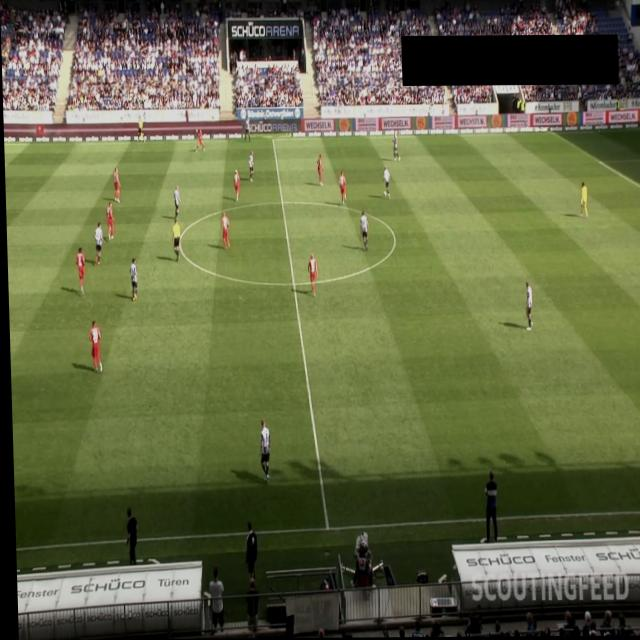goalkeeper: (578, 183, 588, 219)
player: (255, 419, 268, 483), (87, 319, 101, 374), (74, 247, 85, 295), (306, 253, 317, 297), (523, 281, 532, 331), (93, 221, 103, 265), (358, 210, 368, 251), (128, 257, 137, 301), (219, 212, 229, 250), (105, 201, 114, 241), (112, 167, 121, 203), (337, 170, 346, 206), (172, 184, 180, 220), (381, 166, 390, 198), (194, 129, 205, 153), (233, 170, 240, 202), (392, 132, 399, 162), (247, 151, 253, 183), (316, 154, 322, 186), (244, 115, 250, 143)
referee: (171, 217, 181, 261), (137, 115, 143, 142)
